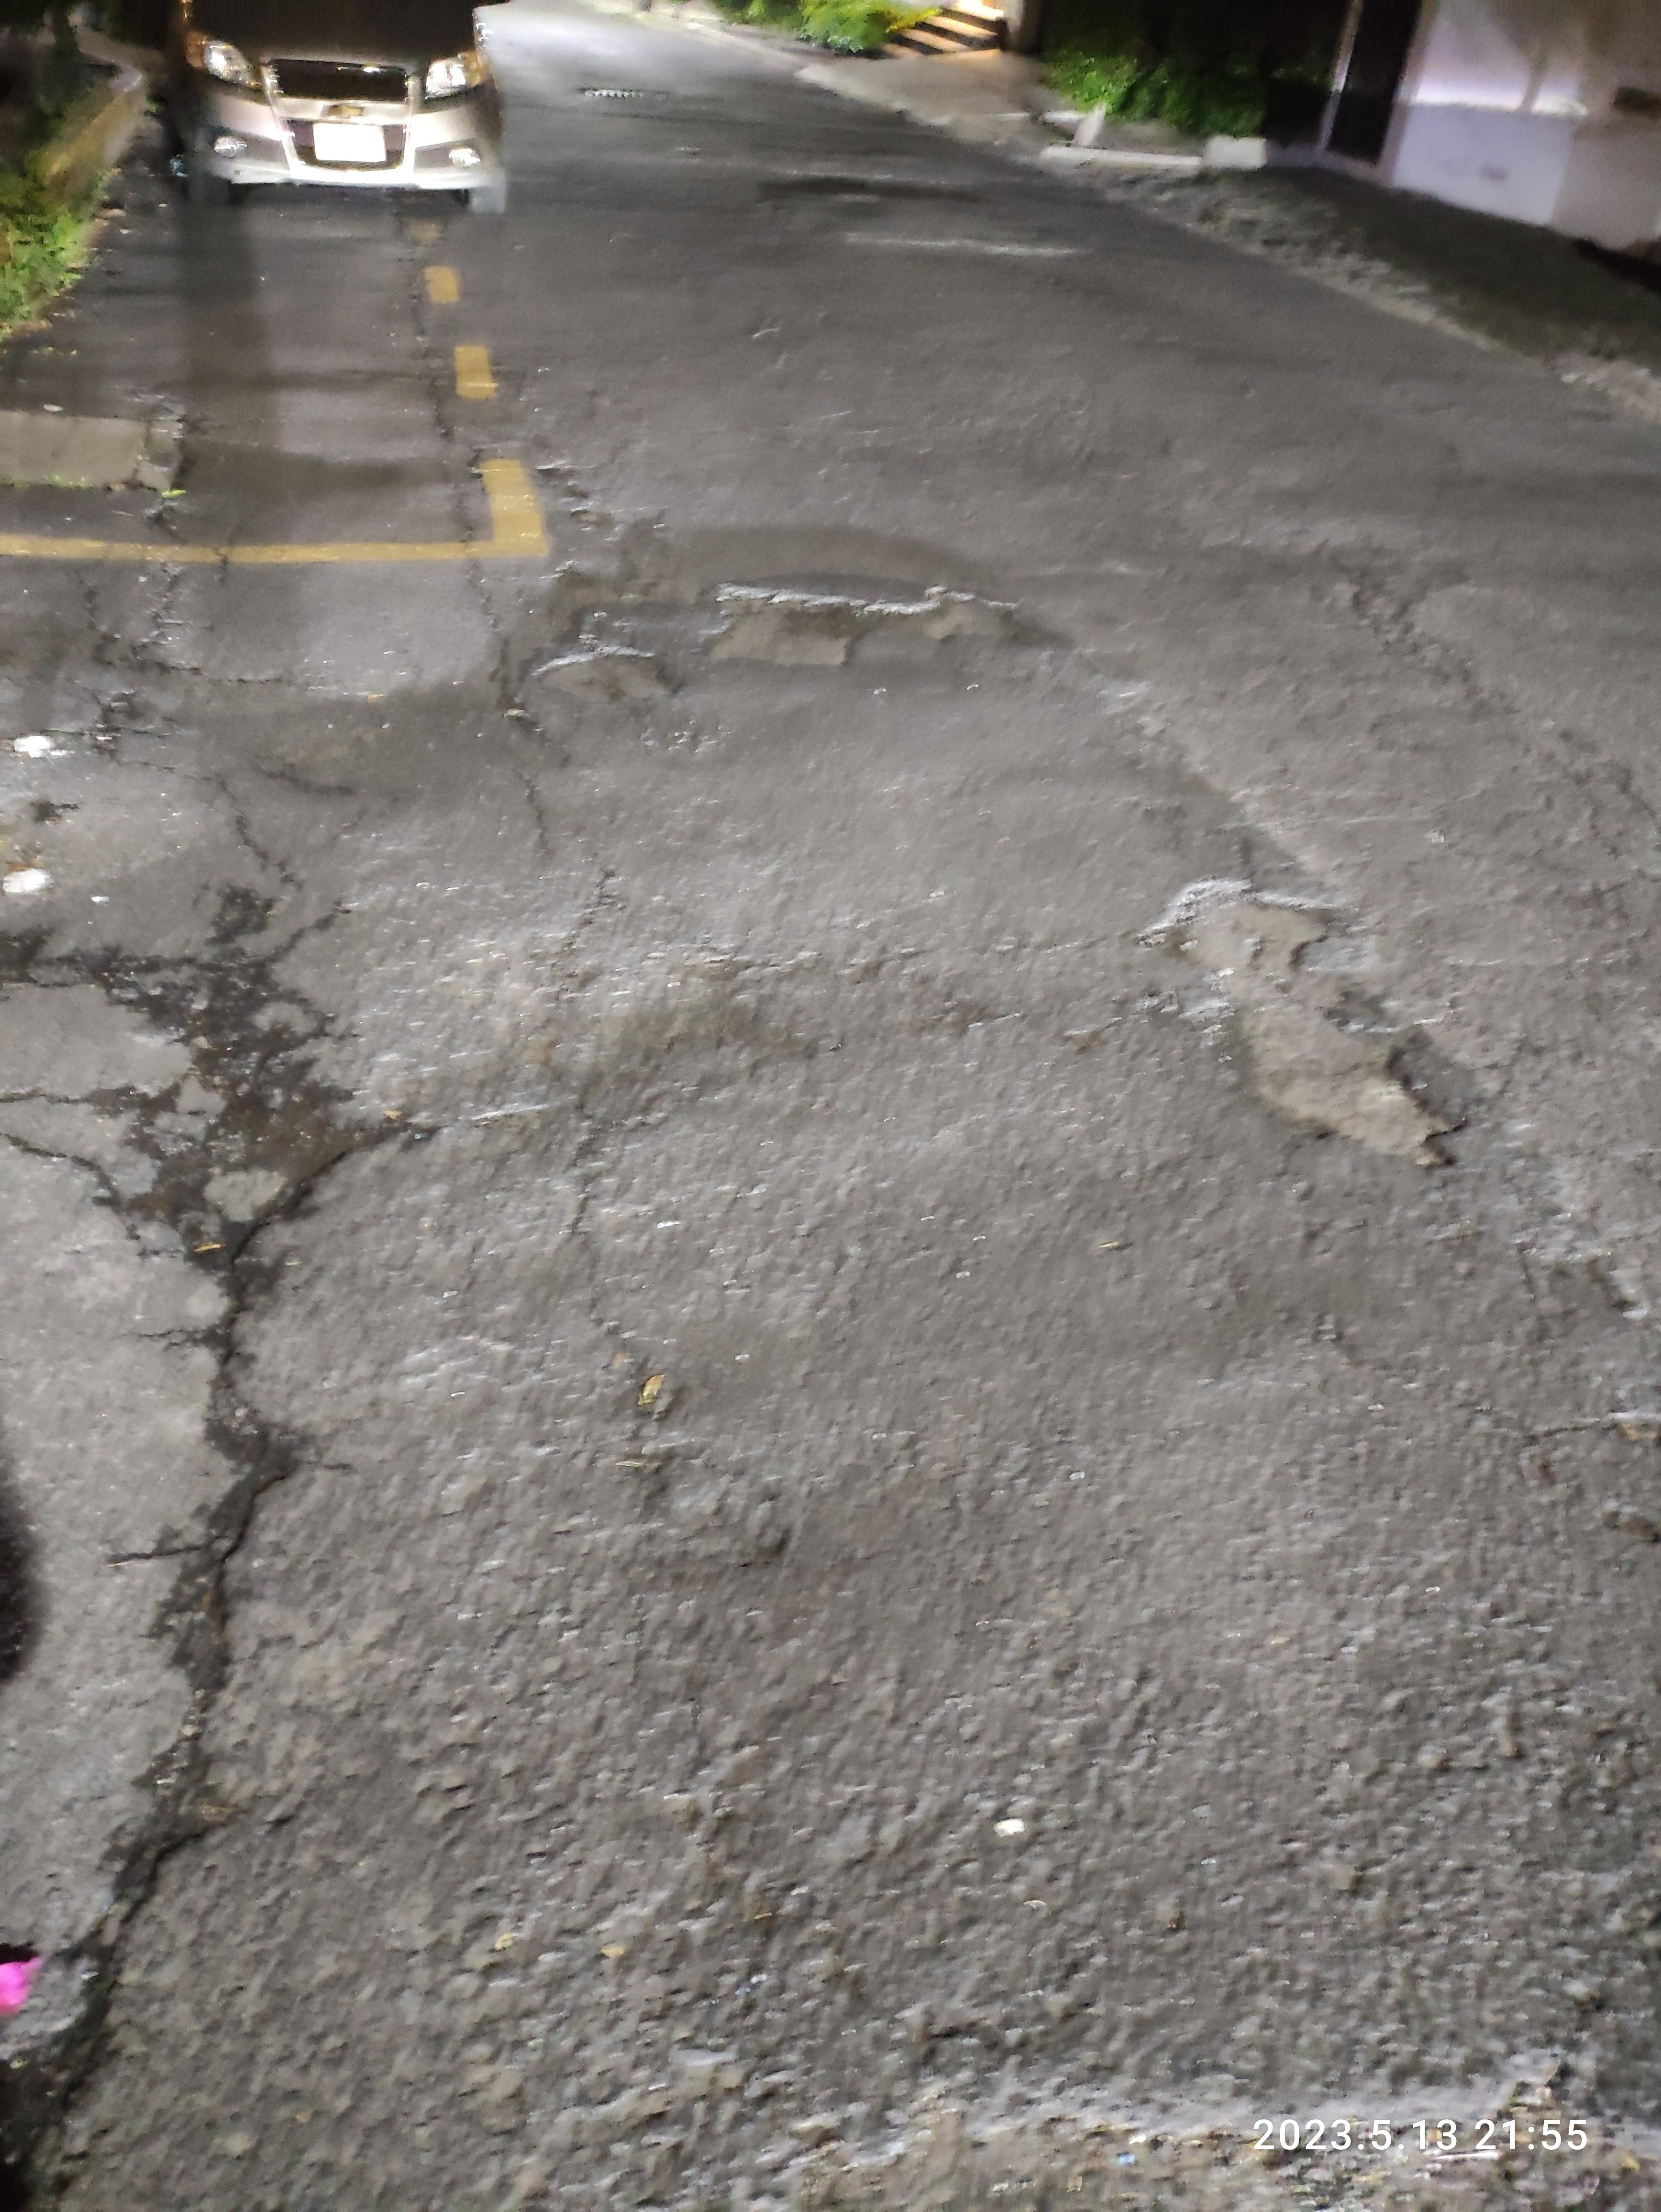alligator-crack: (1300, 569, 1661, 954)
crack: (400, 272, 817, 2212), (0, 850, 354, 2212), (1328, 1315, 1661, 1537)
pothole: (1150, 853, 1473, 1212)
